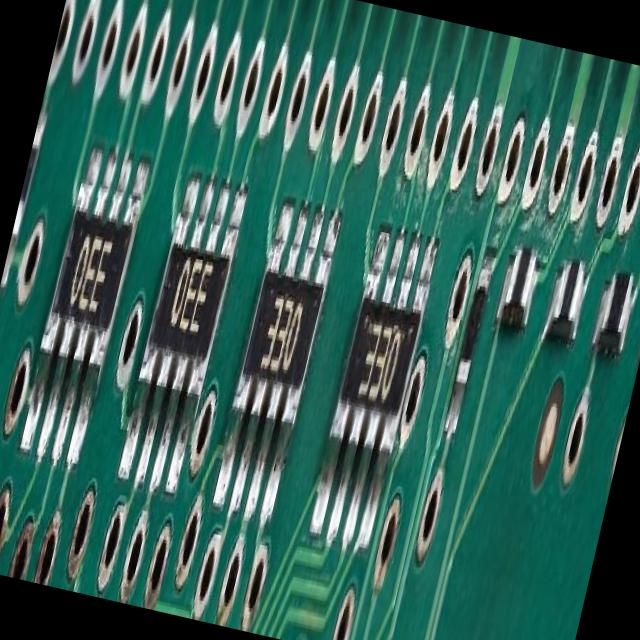resistor: (122, 195, 249, 454), (29, 179, 148, 412), (226, 233, 336, 456), (319, 276, 430, 492), (458, 270, 493, 388), (499, 238, 541, 334), (550, 243, 591, 339), (602, 264, 636, 334)
